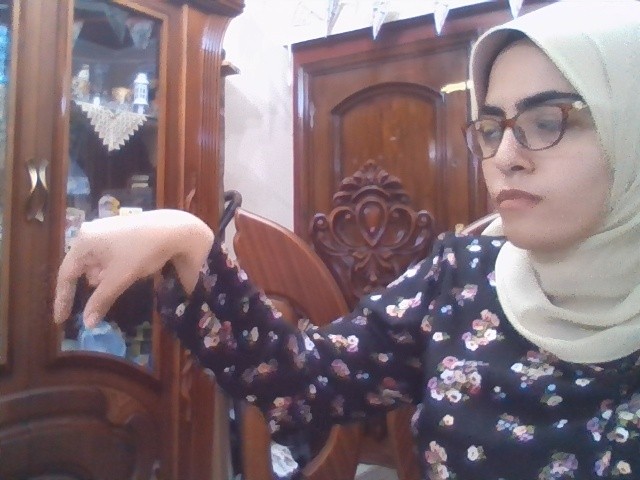Q: (53, 209, 200, 328)
